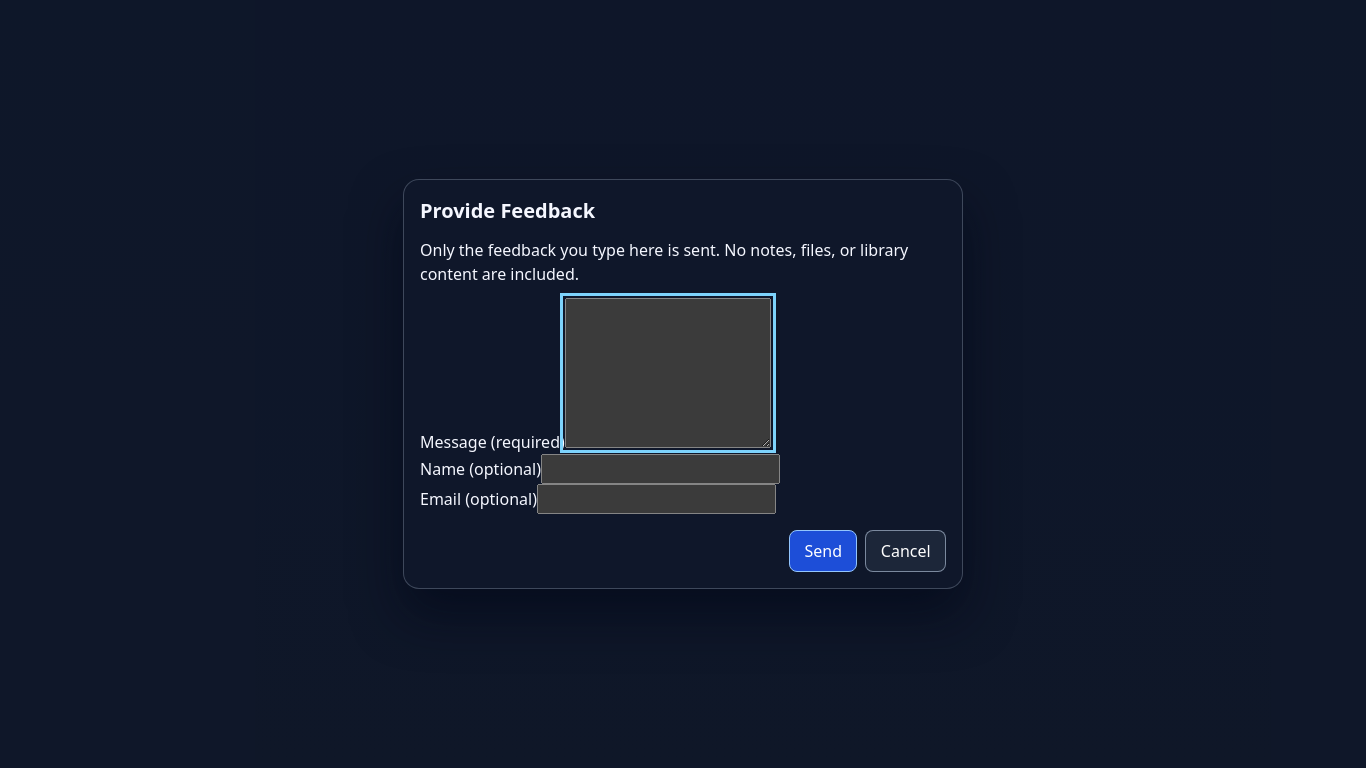
Test: Feedback dialog › requires a message before sending
Click the button "Send". click: [823, 551]
box: [789,530,857,572]
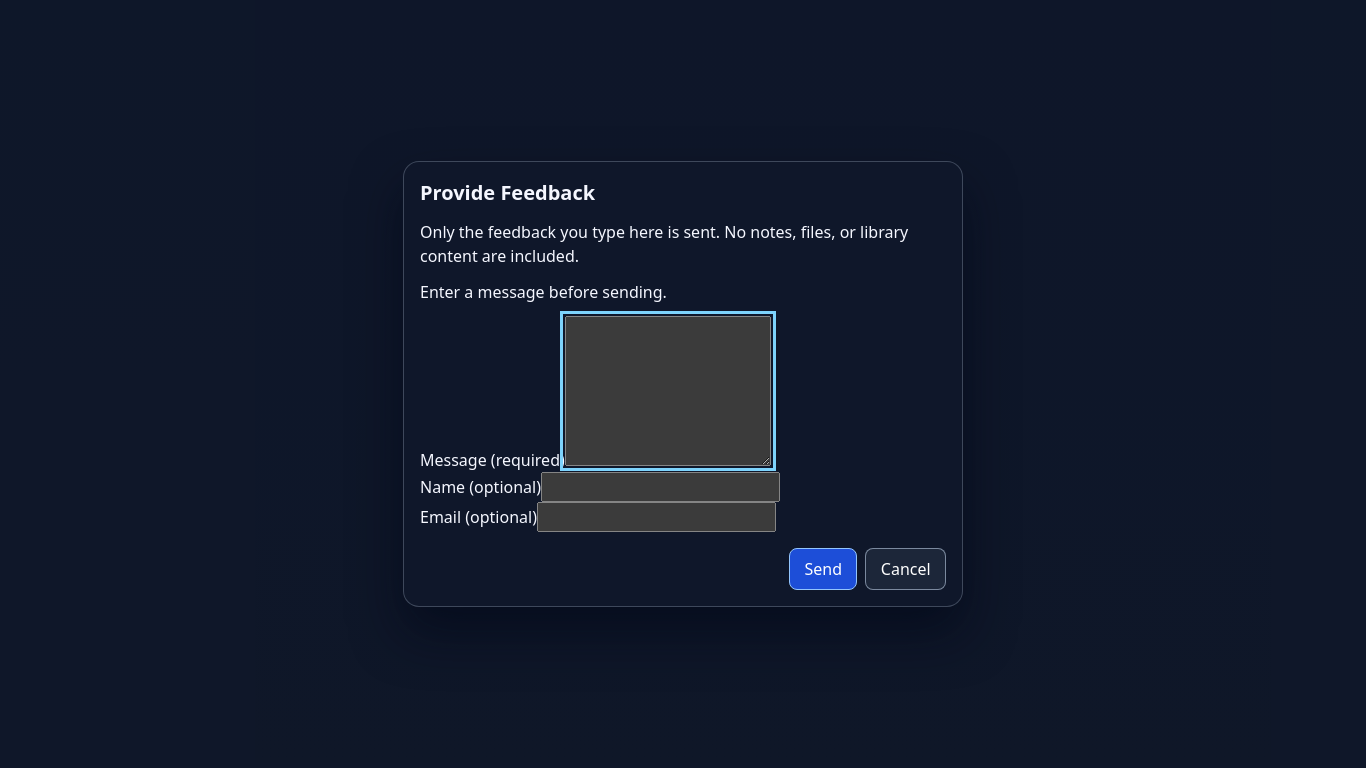
Check: the message reads "Enter a message before sending.", box [420,281,667,303]
